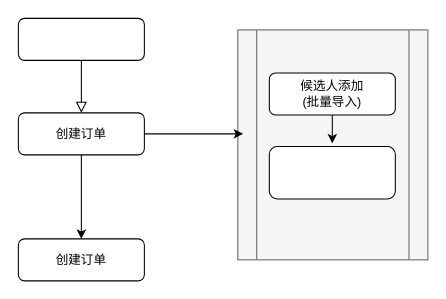
This 446x299 diagram has some shape labels left out. Here are the shapes that lost their labels. From the top down, the centre of each, then its label:
the point at 80,38: Login
the point at 331,172: 选择合同 及套餐套餐 (自定义套餐)
